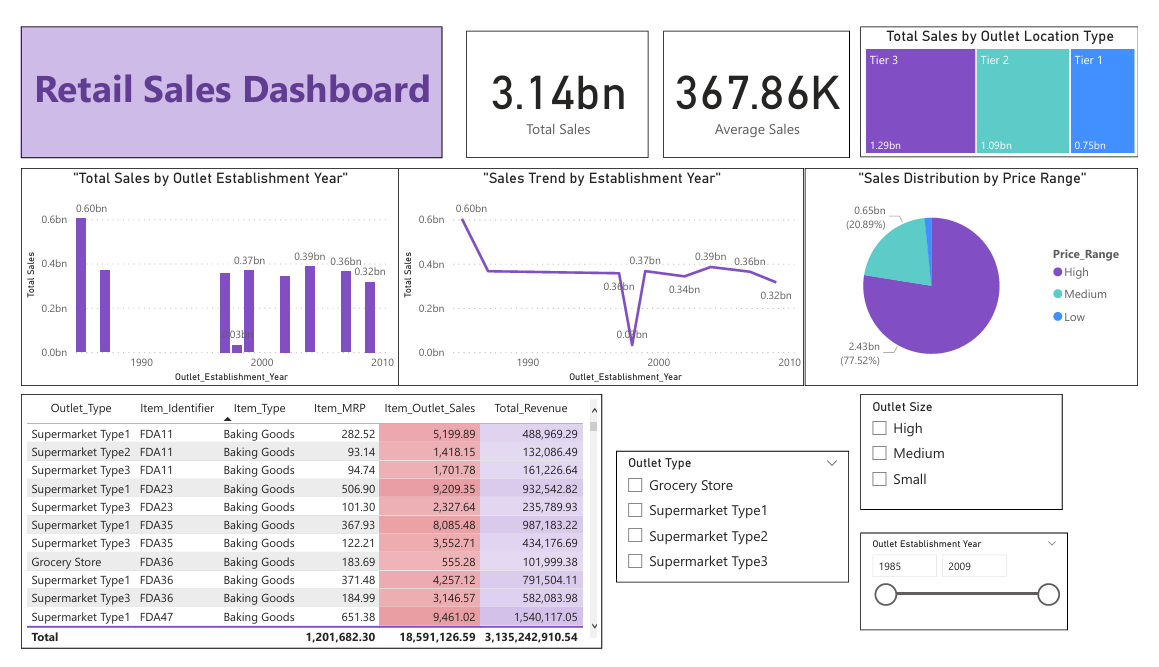

This screenshot's page, from the dashboard's own definition file:
{"tool":"powerbi","page":{"name":"Page 1","canvas":[1280,720],"ordinal":0},"visuals":[{"type":"clusteredColumnChart","title":"\"Total Sales by Outlet Establishment Year\"","fields":{"Category":["RetailSalesData.Outlet_Establishment_Year"],"Y":["RetailSalesData.Total Sales"]},"box":[0,168.5,432.6,249.5],"z":0},{"type":"lineChart","title":"\"Sales Trend by Establishment Year\"","fields":{"Category":["RetailSalesData.Outlet_Establishment_Year"],"Y":["RetailSalesData.Total Sales"]},"box":[432.6,168.5,465,249.5],"z":1000},{"type":"pieChart","title":"\"Sales Distribution by Price Range\"","fields":{"Category":["RetailSalesData.Price_Range"],"Y":["RetailSalesData.Total Sales"]},"box":[897.6,168.5,382.4,249.5],"z":2000},{"type":"tableEx","fields":{"Values":["RetailSalesData.Outlet_Type","RetailSalesData.Item_Identifier","RetailSalesData.Item_Type","Sum(RetailSalesData.Item_MRP)","Sum(RetailSalesData.Item_Outlet_Sales)","Sum(RetailSalesData.Total_Revenue)"]},"box":[0,427.7,665.9,291.6],"z":3000},{"type":"card","fields":{"Values":["RetailSalesData.Total Sales"]},"box":[510.4,11.3,209,145.8],"z":4000},{"type":"card","fields":{"Values":["RetailSalesData.Average Sales"]},"box":[735.6,11.3,213.9,145.8],"z":5000},{"type":"slicer","fields":{"Values":["RetailSalesData.Outlet_Establishment_Year"]},"box":[960.8,586.5,238.2,111.8],"z":6000},{"type":"slicer","fields":{"Values":["RetailSalesData.Outlet_Size"]},"box":[960.8,427.7,231.7,132.9],"z":7000},{"type":"slicer","fields":{"Values":["RetailSalesData.Outlet_Type"]},"box":[682.1,492.6,267.3,150.7],"z":8000},{"type":"textbox","box":[0,6.5,482.8,150.7],"z":9000},{"type":"treemap","title":"Total Sales by Outlet Location Type","fields":{"Group":["RetailSalesData.Outlet_Location_Type"],"Values":["RetailSalesData.Total Sales"]},"box":[961,7,319,150],"z":10000}]}

Visuals, with their boxes in screenshot pixels (x1, y1, x2, y2), scaled from the page's 1280x720 canvas onto the 1159x667 screenshot:
""Total Sales by Outlet Establishment Year"" clusteredColumnChart: 0/156/392/387
""Sales Trend by Establishment Year"" lineChart: 392/156/813/387
""Sales Distribution by Price Range"" pieChart: 813/156/1158/387
tableEx - RetailSalesData.Outlet_Type x RetailSalesData.Item_Identifier: 0/396/603/666
card - RetailSalesData.Total Sales: 462/10/651/146
card - RetailSalesData.Average Sales: 666/10/860/146
slicer - RetailSalesData.Outlet_Establishment_Year: 870/543/1086/647
slicer - RetailSalesData.Outlet_Size: 870/396/1080/519
slicer - RetailSalesData.Outlet_Type: 618/456/860/596
textbox: 0/6/437/146
"Total Sales by Outlet Location Type" treemap: 870/6/1158/145
